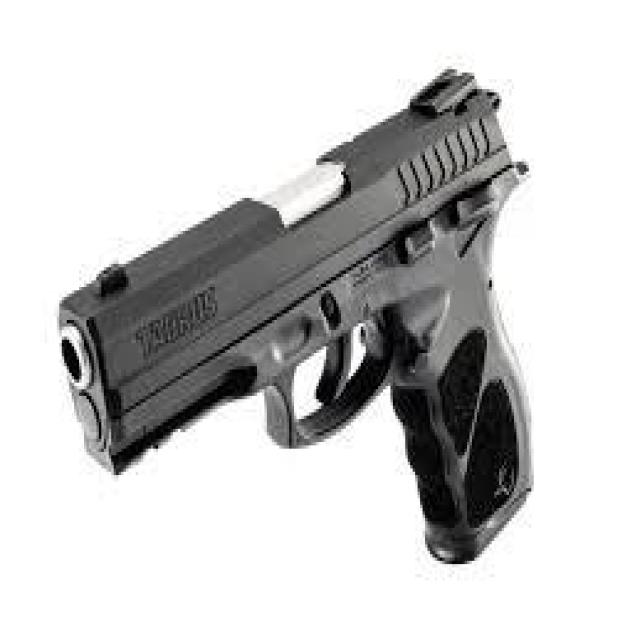gun: (57, 69, 536, 567)
